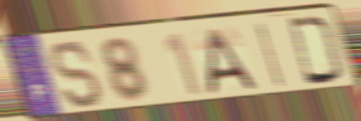1: (164, 31, 201, 97)
8: (99, 34, 152, 105)
A: (205, 25, 260, 97)
D: (285, 15, 347, 87)
I: (254, 20, 287, 90)
S: (50, 39, 106, 111)
